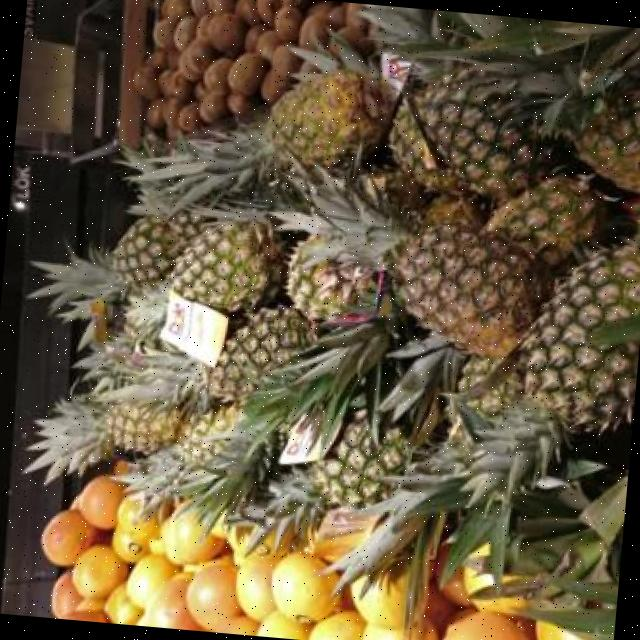pineapple: (331, 242, 640, 582), (269, 166, 548, 356), (363, 3, 577, 197), (124, 71, 393, 211), (237, 410, 410, 533), (27, 214, 205, 320), (142, 307, 317, 407), (23, 395, 183, 482), (126, 403, 240, 501), (169, 221, 285, 312), (484, 175, 603, 263), (574, 75, 640, 189), (287, 245, 379, 318), (124, 282, 168, 340)
